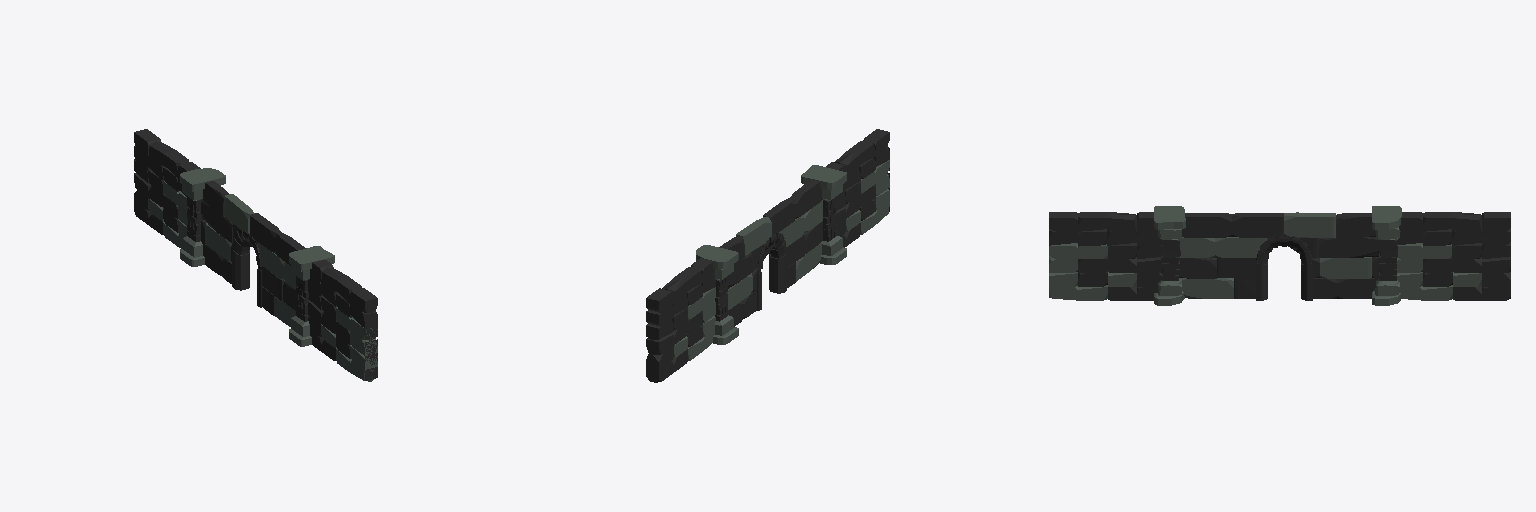
Rendered from doorWall.obj.
3 views of the same model, side by side, from view 1: azimuth 30°, elevation 25°; view 2: azimuth 150°, elevation 25°; view 3: azimuth 270°, elevation 25° (orthographic).
Visible parts, largest first — view 1: walls.015, wallslittle.006, wallslittle.005, beam.002, beam.004; view 2: walls.015, wallslittle.005, wallslittle.006, beam.004, beam.002; view 3: walls.015, wallslittle.005, wallslittle.006, beam.004, beam.002.
Part boxes in pixels (x1,y1,x2,y2): walls.015: (201, 181, 306, 326); wallslittle.006: (308, 260, 377, 381); wallslittle.005: (134, 129, 200, 248); beam.002: (180, 168, 225, 266); beam.004: (289, 246, 334, 346); walls.015: (719, 180, 822, 326); wallslittle.005: (646, 258, 715, 382); wallslittle.006: (826, 129, 889, 247); beam.004: (801, 165, 846, 264); beam.002: (696, 245, 738, 344); walls.015: (1179, 212, 1379, 300); wallslittle.005: (1397, 212, 1510, 300); wallslittle.006: (1049, 212, 1162, 300); beam.004: (1154, 206, 1185, 305); beam.002: (1372, 206, 1401, 305).
Size of the model in its own units: 2.2 by 4.93 by 24.85.